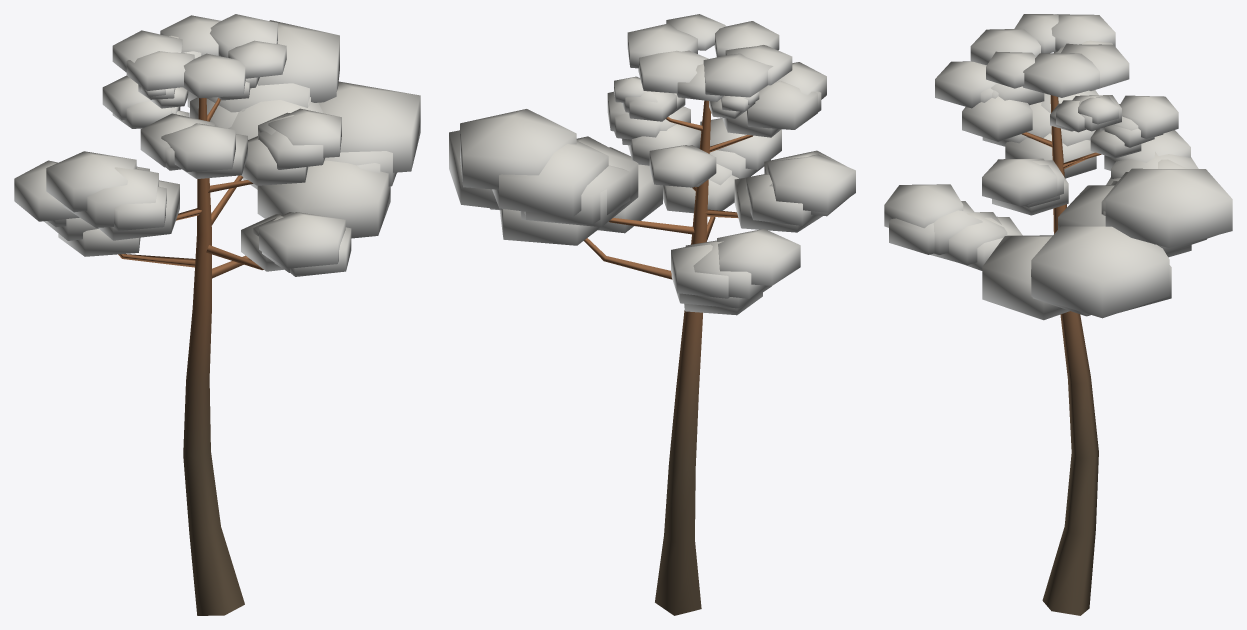
3 renders of one model, left to right at view 1: azimuth 30°, elevation 25°; view 2: azimuth 150°, elevation 25°; view 3: azimuth 270°, elevation 25°, orthographic. The views are drawn at different scales.
Visible parts, largest first — view 1: crown, trunk; view 2: crown, trunk; view 3: crown, trunk.
Part boxes in pixels (x1,y1,x2,y2): crown: (14, 14, 420, 276); trunk: (118, 98, 263, 615); crown: (449, 14, 855, 315); trunk: (584, 100, 752, 615); crown: (884, 14, 1232, 320); trunk: (1021, 95, 1101, 615).
Size of the model in its own units: 16.95 by 24.83 by 13.85.
